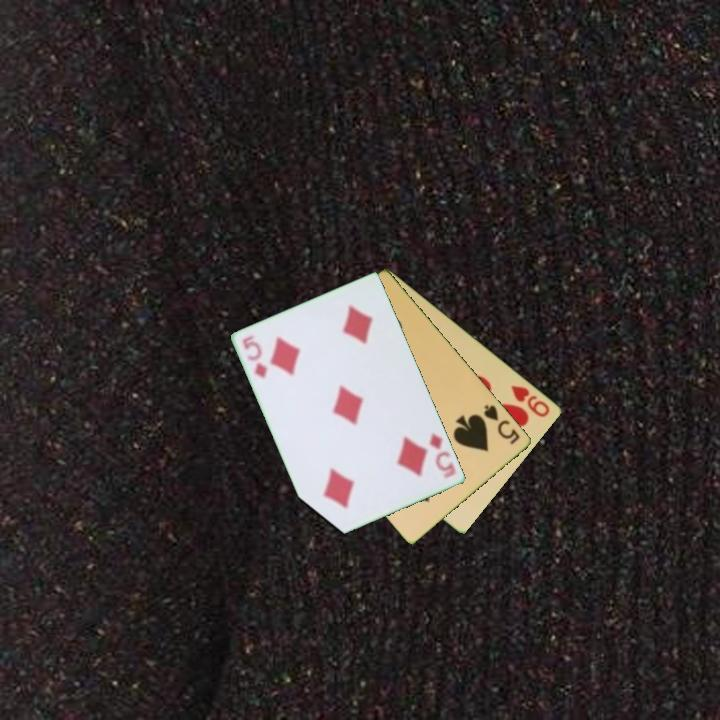5d: (427, 429, 459, 482), (239, 333, 272, 381)
5s: (480, 401, 523, 447)
9h: (508, 382, 553, 420)
